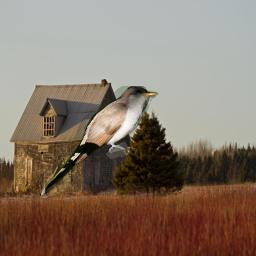Cuckoo: (40, 86, 159, 196)
